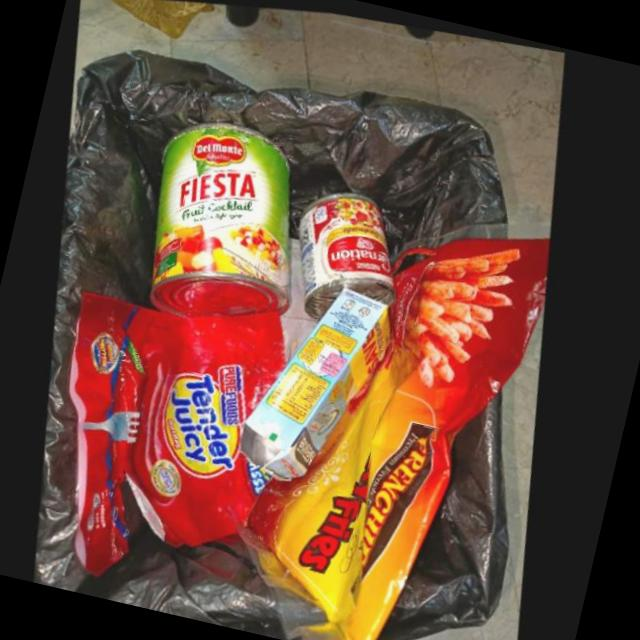bao_bi_thuc_pham: (243, 222, 557, 640), (73, 287, 292, 573)
nhom: (155, 120, 298, 315), (304, 191, 401, 319)
vo_hop_sua: (243, 286, 395, 477)
